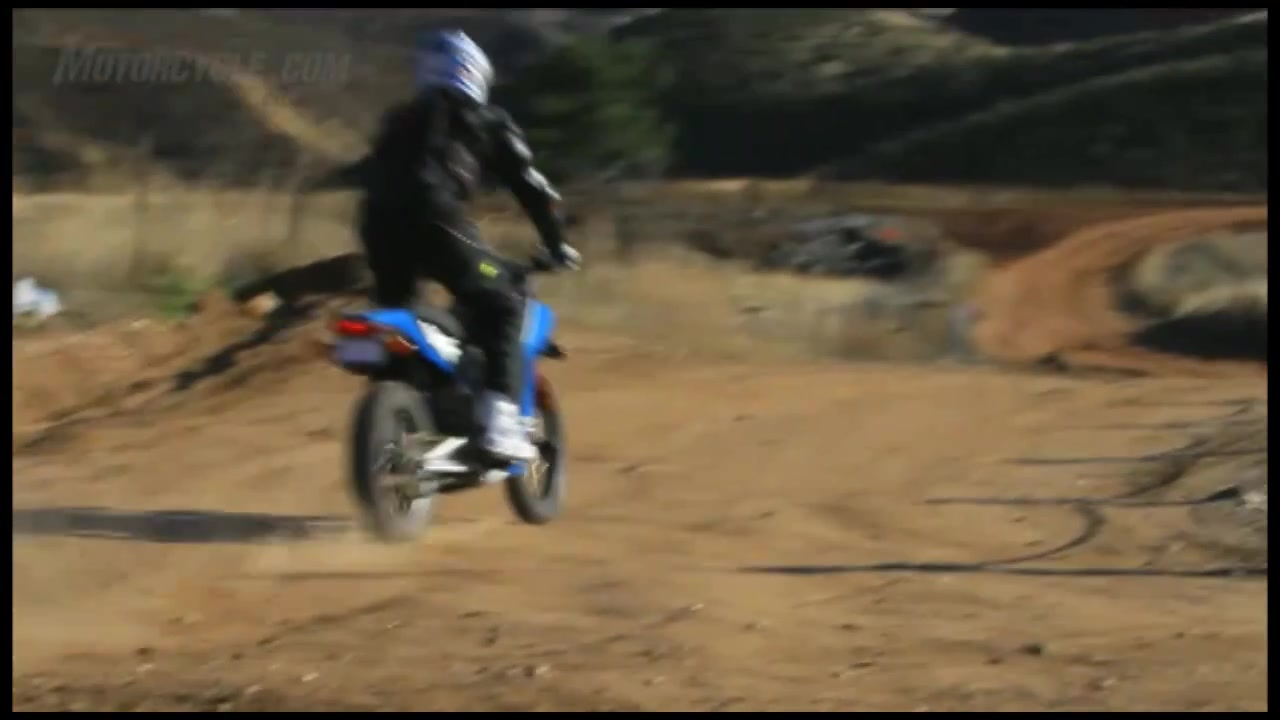motorbike: (320, 243, 577, 545)
